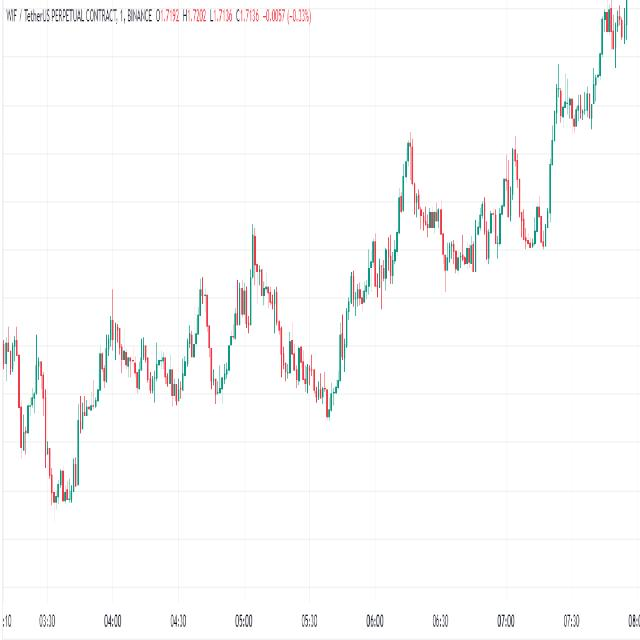Double-Bottom: (40, 429, 84, 516)
